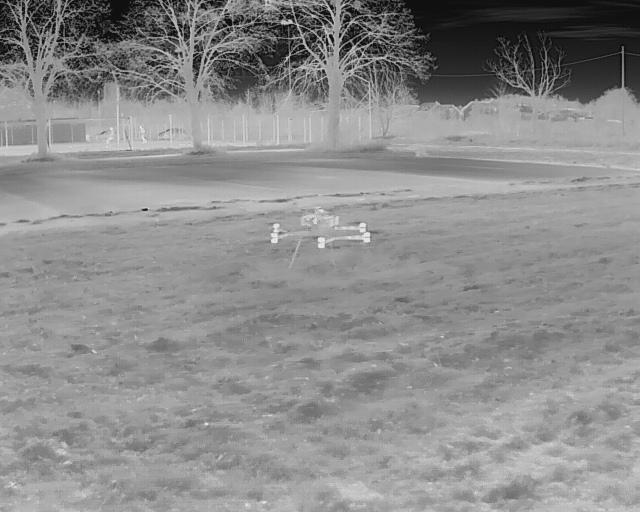drone: (260, 200, 390, 276)
